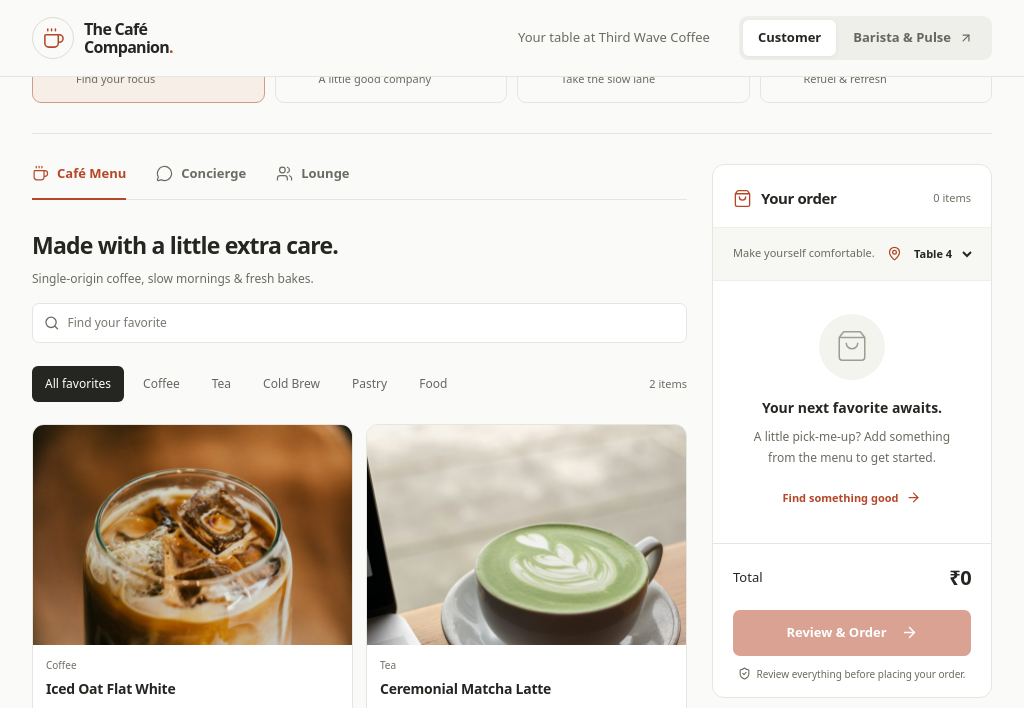
Test case: Guest ordering › filters categories and recovers from an empty search
(page scrolled)
Expected: the button "Iced Oat Flat White" is shown, [46, 679, 339, 698]
Click the button "Tea" at (221, 384), box [199, 366, 244, 402]
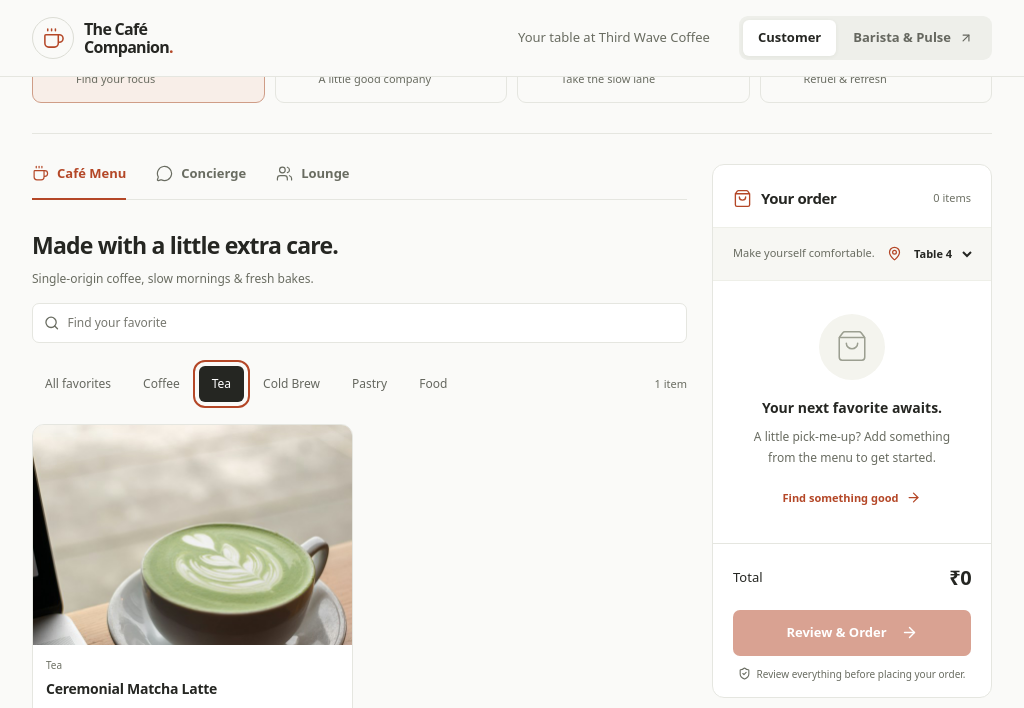
Expected: the button "Ceremonial Matcha Latte" is shown, [46, 679, 339, 698]
Expected: the button "Iced Oat Flat White" is gone
Type "no-such-drink" into the search field named "Search menu" at (371, 323), box [67, 304, 675, 342]
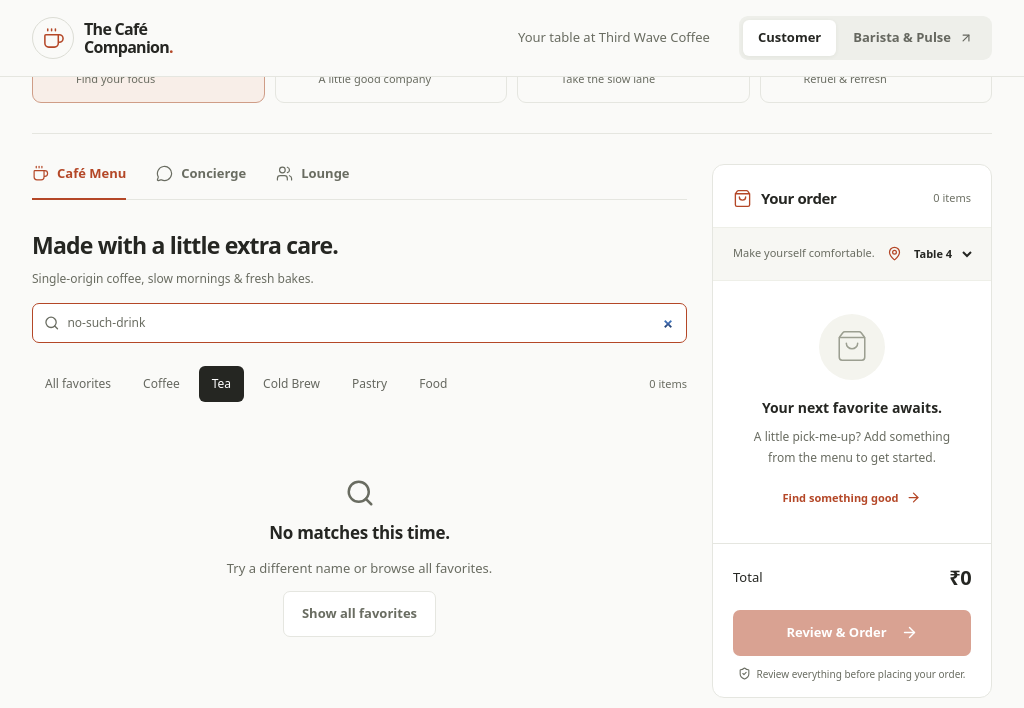
Expected: the heading "No matches this time." is shown, [269, 520, 450, 545]
Click the button "Show all favorites" at (360, 614), box [283, 592, 436, 637]
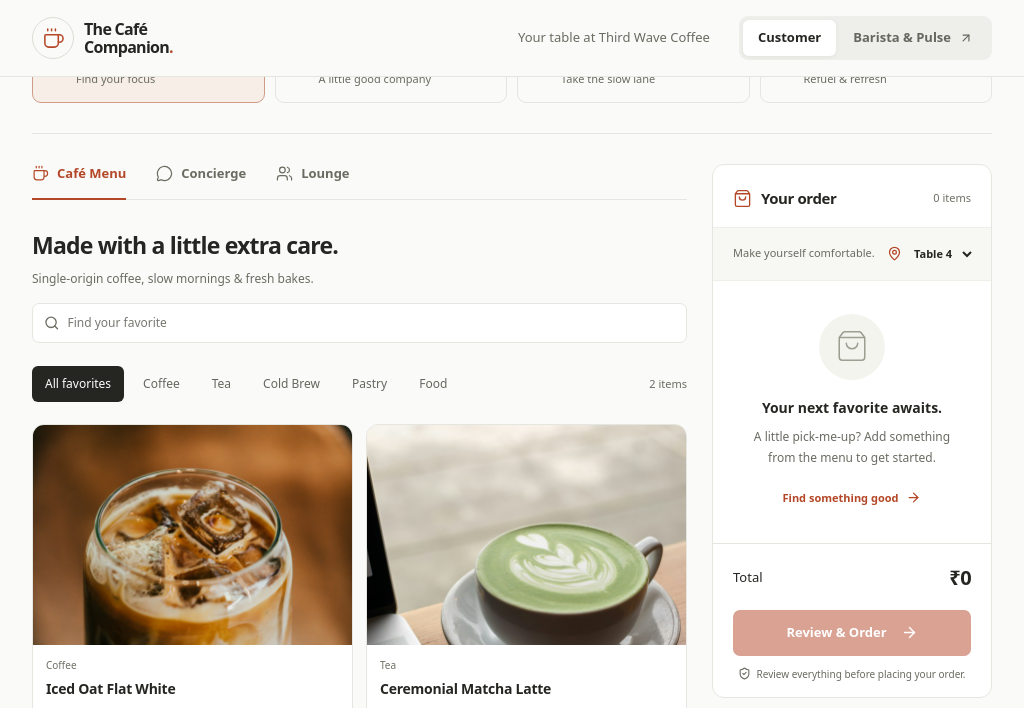
Expected: the button "Iced Oat Flat White" is shown, [46, 679, 339, 698]
